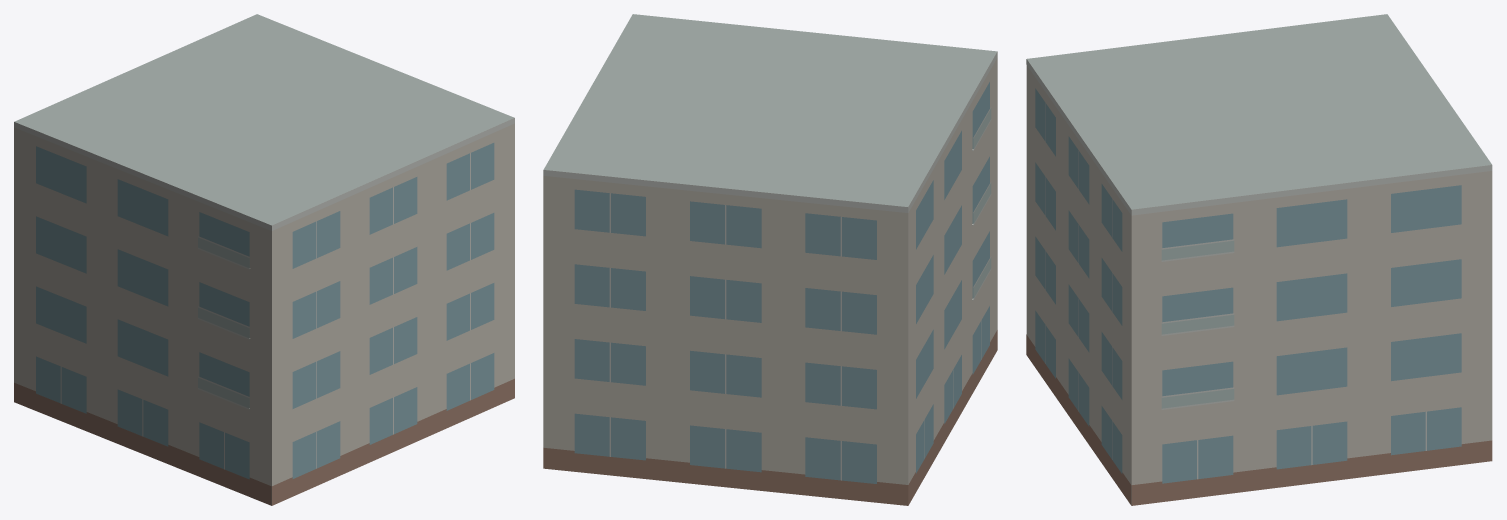
Rendered from residential-3dad64ca-68bb-47dc-9bc3-7e3c739cabe9.glb.
3 views of the same model, side by side, from view 1: azimuth 30°, elevation 25°; view 2: azimuth 150°, elevation 25°; view 3: azimuth 270°, elevation 25° (orthographic). The views are drawn at different scales.
Visible parts, largest first — view 1: residential-3dad64ca-68bb-47dc-9bc3-7e3c739cabe9.tmp; view 2: residential-3dad64ca-68bb-47dc-9bc3-7e3c739cabe9.tmp; view 3: residential-3dad64ca-68bb-47dc-9bc3-7e3c739cabe9.tmp.
Boxes of the visible parts, x1,y1,x2,y2 form: residential-3dad64ca-68bb-47dc-9bc3-7e3c739cabe9.tmp: [14, 14, 514, 505]; residential-3dad64ca-68bb-47dc-9bc3-7e3c739cabe9.tmp: [543, 14, 997, 505]; residential-3dad64ca-68bb-47dc-9bc3-7e3c739cabe9.tmp: [1026, 14, 1492, 505].
Bounding box in the file's own units: 17.3 × 12.2 × 17.4.
